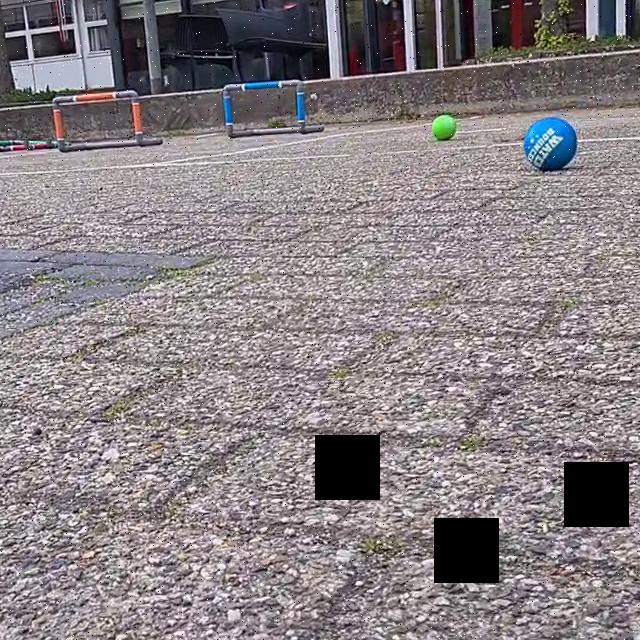ball: (429, 112, 459, 143)
